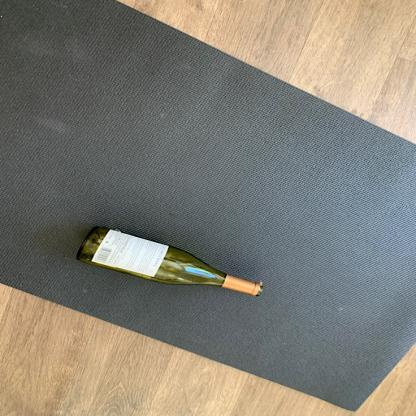trash: (70, 226, 266, 298)
